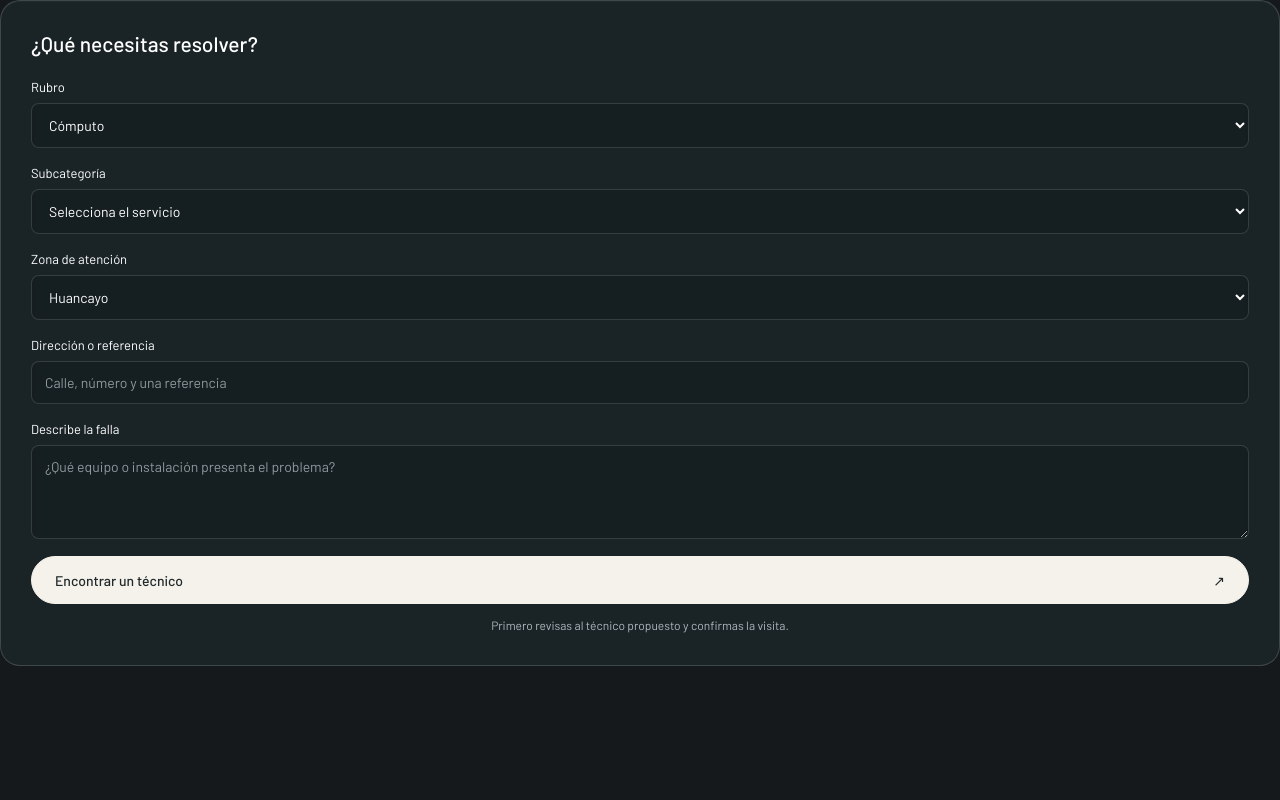
it: changing specialty clears subcategory and only exposes relevant options
This screenshot has width=1280, height=800.
Select "Reparación de hardware" in the dropdown labelled "Subcategoría" at [640, 212], box [31,189,1249,234]
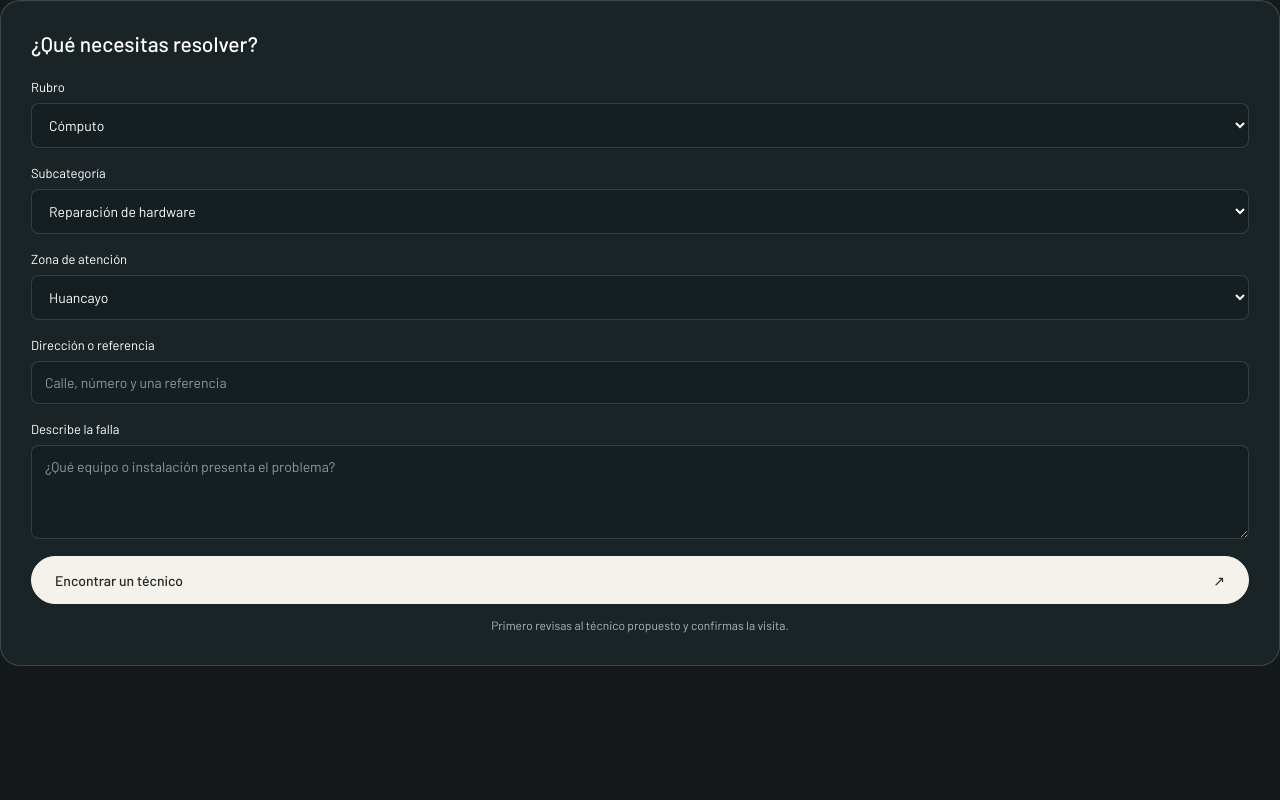
Select "Electricidad" in the dropdown labelled "Rubro" at [640, 126], box [31,103,1249,148]
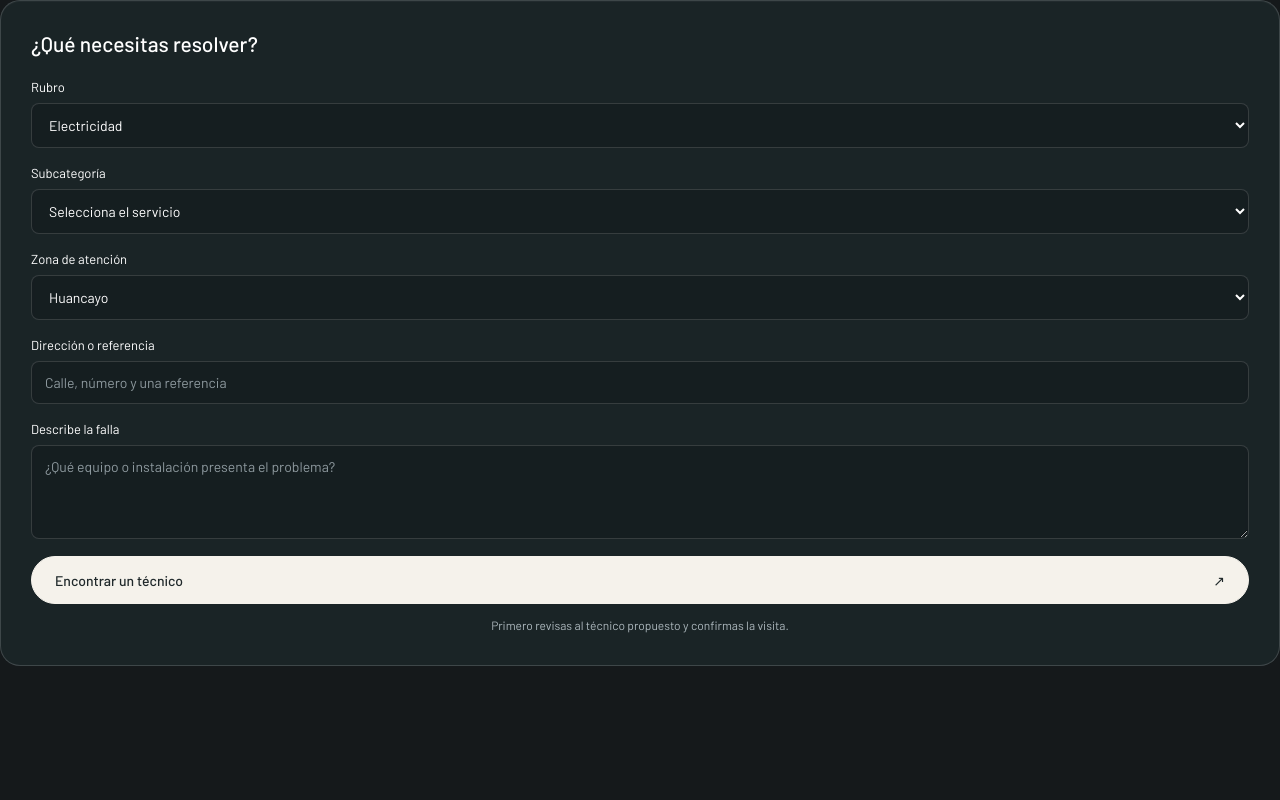
Expected: the option "Reparación de hardware" is not shown
Expected: the dropdown labelled "Subcategoría" shows "Selecciona el servicio", [31,189,1249,234]
